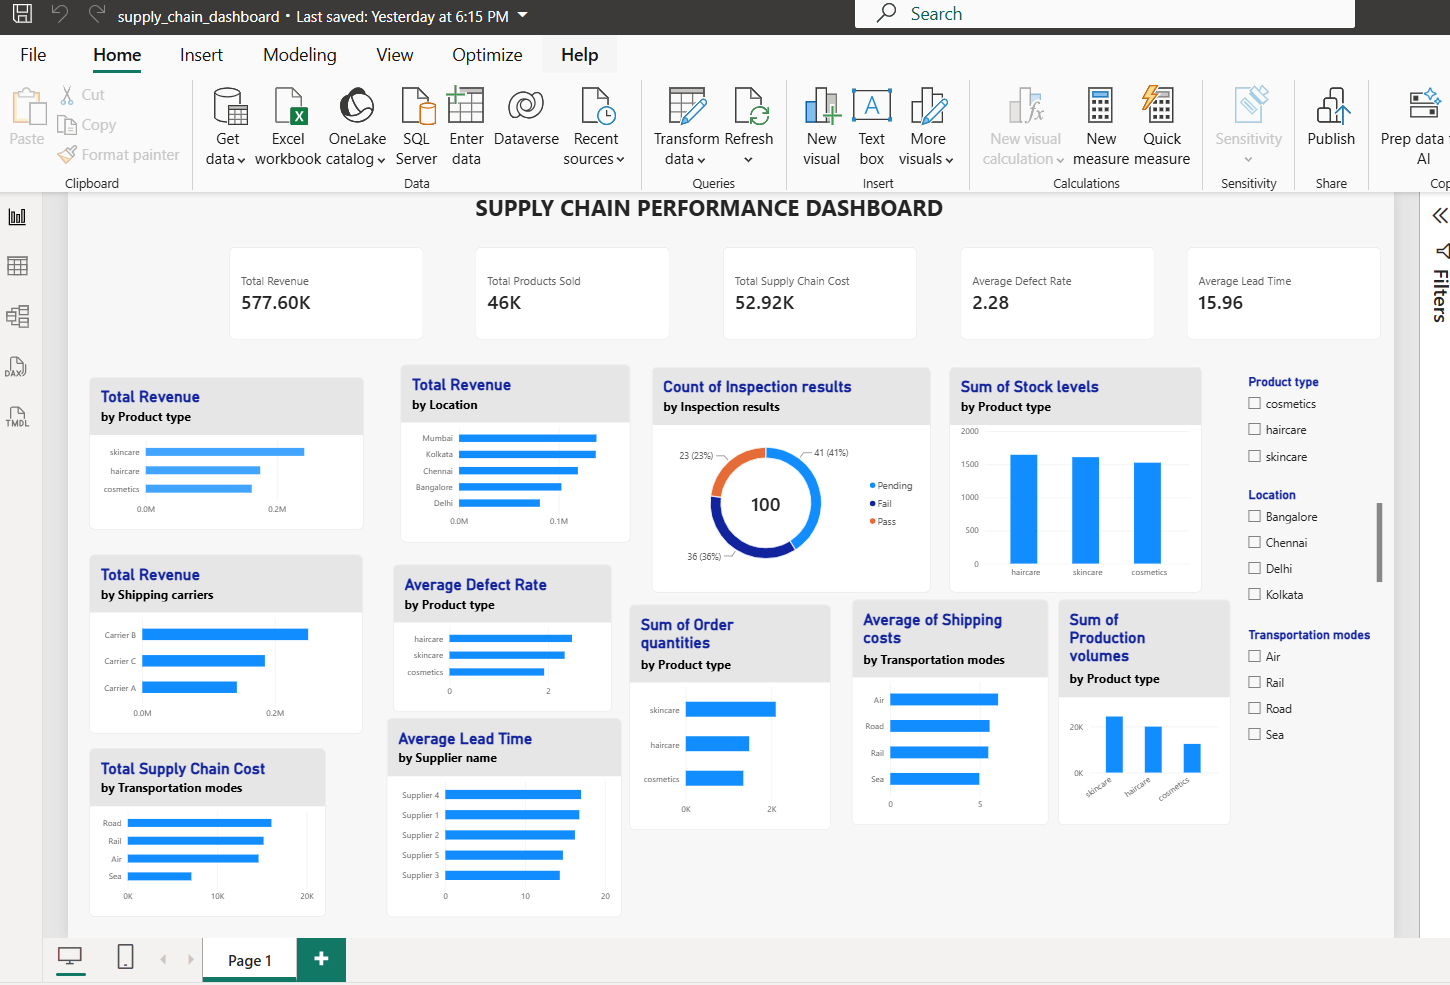

Layout of this report page (visuals, bound fields, positions):
{"tool":"powerbi","page":{"name":"Page 1","canvas":[1920,1080],"ordinal":0},"visuals":[{"type":"cardVisual","fields":{"Data":["supply_chain_data.Total Revenue"]},"box":[232.6,78.8,281.9,134],"z":0},{"type":"cardVisual","fields":{"Data":["supply_chain_data.Total Products Sold"]},"box":[590.2,78.8,281.9,134],"z":1000},{"type":"cardVisual","fields":{"Data":["supply_chain_data.Total Supply Chain Cost"]},"box":[947.7,78.8,281.9,134],"z":2000},{"type":"cardVisual","fields":{"Data":["supply_chain_data.Average Defect Rate"]},"box":[1291.8,78.8,281.9,134],"z":3000},{"type":"cardVisual","fields":{"Data":["supply_chain_data.Average Lead Time"]},"box":[1620.5,78.8,281.9,134],"z":4000},{"type":"clusteredBarChart","fields":{"Category":["supply_chain_data.Product type"],"Y":["supply_chain_data.Total Revenue"]},"box":[30.8,267.2,397.9,221.1],"z":5000},{"type":"clusteredBarChart","fields":{"Category":["supply_chain_data.Location"],"Y":["supply_chain_data.Total Revenue"]},"box":[480.6,249.9,332.6,257.6],"z":6000},{"type":"clusteredBarChart","fields":{"Category":["supply_chain_data.Shipping carriers"],"Y":["supply_chain_data.Total Revenue"]},"box":[30.8,524.8,396,259.5],"z":7000},{"type":"clusteredBarChart","fields":{"Category":["supply_chain_data.Transportation modes"],"Y":["supply_chain_data.Total Supply Chain Cost"]},"box":[30.8,805.4,342.2,244.1],"z":8000},{"type":"clusteredBarChart","fields":{"Category":["supply_chain_data.Product type"],"Y":["supply_chain_data.Average Defect Rate"]},"box":[471,540.2,317.2,213.4],"z":9000},{"type":"clusteredBarChart","fields":{"Category":["supply_chain_data.Supplier name"],"Y":["supply_chain_data.Average Lead Time"]},"box":[461.4,761.2,340.2,288.3],"z":10000},{"type":"donutChart","fields":{"Category":["supply_chain_data.Inspection results"],"Y":["CountNonNull(supply_chain_data.Inspection results)"]},"box":[845.8,253.7,403.7,326.8],"z":11000},{"type":"columnChart","fields":{"Category":["supply_chain_data.Product type"],"Y":["Sum(supply_chain_data.Stock levels)"]},"box":[1276.4,253.7,365.2,326.8],"z":12000},{"type":"barChart","fields":{"Category":["supply_chain_data.Product type"],"Y":["Sum(supply_chain_data.Order quantities)"]},"box":[813.1,597.8,292.2,326.8],"z":13000},{"type":"barChart","fields":{"Category":["supply_chain_data.Transportation modes"],"Y":["Avg(supply_chain_data.Shipping costs)"]},"box":[1134.2,590.2,284.5,326.8],"z":14000},{"type":"columnChart","fields":{"Category":["supply_chain_data.Product type"],"Y":["Sum(supply_chain_data.Production volumes)"]},"box":[1434,590.2,249.9,326.8],"z":15000},{"type":"slicer","fields":{"Values":["supply_chain_data.Product type"]},"box":[1701.2,263.4,201.8,153.8],"z":16000},{"type":"slicer","fields":{"Values":["supply_chain_data.Location"]},"box":[1701.2,426.8,201.8,171.1],"z":17000},{"type":"slicer","fields":{"Values":["supply_chain_data.Transportation modes"]},"box":[1701.2,630.5,201.8,203.8],"z":18000},{"type":"textbox","box":[590.2,0,738.2,59.6],"z":19000}]}

Visuals, with their boxes on the page's 1920x1080 design canvas (x1, y1, x2, y2). These are canvas units, not pixel positions in the 1450x985 screenshot, which may show the page scaled, cropped or inside an application window:
cardVisual - supply_chain_data.Total Revenue: rect(233, 79, 514, 213)
cardVisual - supply_chain_data.Total Products Sold: rect(590, 79, 872, 213)
cardVisual - supply_chain_data.Total Supply Chain Cost: rect(948, 79, 1230, 213)
cardVisual - supply_chain_data.Average Defect Rate: rect(1292, 79, 1574, 213)
cardVisual - supply_chain_data.Average Lead Time: rect(1620, 79, 1902, 213)
clusteredBarChart - supply_chain_data.Product type x supply_chain_data.Total Revenue: rect(31, 267, 429, 488)
clusteredBarChart - supply_chain_data.Location x supply_chain_data.Total Revenue: rect(481, 250, 813, 508)
clusteredBarChart - supply_chain_data.Shipping carriers x supply_chain_data.Total Revenue: rect(31, 525, 427, 784)
clusteredBarChart - supply_chain_data.Transportation modes x supply_chain_data.Total Supply Chain Cost: rect(31, 805, 373, 1050)
clusteredBarChart - supply_chain_data.Product type x supply_chain_data.Average Defect Rate: rect(471, 540, 788, 754)
clusteredBarChart - supply_chain_data.Supplier name x supply_chain_data.Average Lead Time: rect(461, 761, 802, 1050)
donutChart - supply_chain_data.Inspection results x CountNonNull(supply_chain_data.Inspection results): rect(846, 254, 1250, 580)
columnChart - supply_chain_data.Product type x Sum(supply_chain_data.Stock levels): rect(1276, 254, 1642, 580)
barChart - supply_chain_data.Product type x Sum(supply_chain_data.Order quantities): rect(813, 598, 1105, 925)
barChart - supply_chain_data.Transportation modes x Avg(supply_chain_data.Shipping costs): rect(1134, 590, 1419, 917)
columnChart - supply_chain_data.Product type x Sum(supply_chain_data.Production volumes): rect(1434, 590, 1684, 917)
slicer - supply_chain_data.Product type: rect(1701, 263, 1903, 417)
slicer - supply_chain_data.Location: rect(1701, 427, 1903, 598)
slicer - supply_chain_data.Transportation modes: rect(1701, 630, 1903, 834)
textbox: rect(590, 0, 1328, 60)
